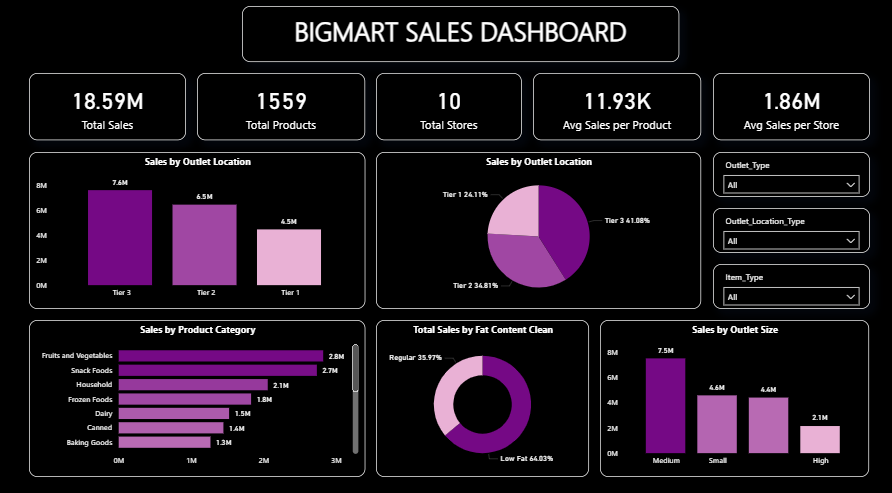

The dashboard page shown, as its layout file describes it:
{"tool":"powerbi","page":{"name":"Executive Overview","canvas":[1280,720],"ordinal":0},"visuals":[{"type":"card","fields":{"Values":["bigmart.Total Sales"]},"box":[48,112,224,96],"z":0},{"type":"card","fields":{"Values":["bigmart.Total Products"]},"box":[288,112,240,96],"z":1000},{"type":"card","fields":{"Values":["bigmart.Total Stores"]},"box":[544,112,208,96],"z":2000},{"type":"card","fields":{"Values":["bigmart.Avg Sales per Product"]},"box":[768,112,240,96],"z":3000},{"type":"card","fields":{"Values":["bigmart.Avg Sales per Store"]},"box":[1024,112,224,96],"z":4000},{"type":"clusteredColumnChart","title":"Sales by Outlet Location","fields":{"Category":["bigmart.Outlet_Location_Type"],"Y":["bigmart.Total Sales"]},"box":[48,224,480,224],"z":5000},{"type":"pieChart","title":"Sales by Outlet Location","fields":{"Category":["bigmart.Outlet_Location_Type"],"Y":["bigmart.Total Sales"]},"box":[544,224,464,224],"z":6000},{"type":"clusteredColumnChart","title":"Sales by Outlet Size","fields":{"Category":["bigmart.Outlet_Size"],"Y":["bigmart.Total Sales"]},"box":[864,464,384,224],"z":7000},{"type":"barChart","title":"Sales by Product Category","fields":{"Category":["bigmart.Item_Type"],"Y":["bigmart.Total Sales"]},"box":[48,464,480,224],"z":8000},{"type":"donutChart","fields":{"Category":["bigmart.Fat Content Clean"],"Y":["bigmart.Total Sales"]},"box":[544,464,304,224],"z":9000},{"type":"slicer","fields":{"Values":["bigmart.Outlet_Type"]},"box":[1024,224,224,64],"z":10000},{"type":"slicer","fields":{"Values":["bigmart.Outlet_Location_Type"]},"box":[1024,304,224,64],"z":11000},{"type":"slicer","fields":{"Values":["bigmart.Item_Type"]},"box":[1024,384,224,64],"z":12000},{"type":"textbox","box":[352,16,624,80],"z":13000}]}

Visuals, with their boxes in screenshot pixels (x1, y1, x2, y2), scaled from the page's 1280x720 canvas onto the 892x493 screenshot:
card - bigmart.Total Sales: <box>33,77,190,142</box>
card - bigmart.Total Products: <box>201,77,368,142</box>
card - bigmart.Total Stores: <box>379,77,524,142</box>
card - bigmart.Avg Sales per Product: <box>535,77,702,142</box>
card - bigmart.Avg Sales per Store: <box>714,77,870,142</box>
"Sales by Outlet Location" clusteredColumnChart: <box>33,153,368,307</box>
"Sales by Outlet Location" pieChart: <box>379,153,702,307</box>
"Sales by Outlet Size" clusteredColumnChart: <box>602,318,870,471</box>
"Sales by Product Category" barChart: <box>33,318,368,471</box>
donutChart - bigmart.Fat Content Clean x bigmart.Total Sales: <box>379,318,591,471</box>
slicer - bigmart.Outlet_Type: <box>714,153,870,197</box>
slicer - bigmart.Outlet_Location_Type: <box>714,208,870,252</box>
slicer - bigmart.Item_Type: <box>714,263,870,307</box>
textbox: <box>245,11,680,66</box>
